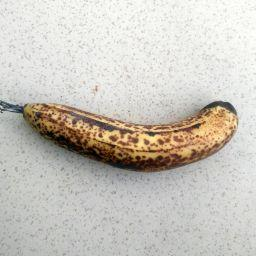banana: (0, 99, 240, 176)
